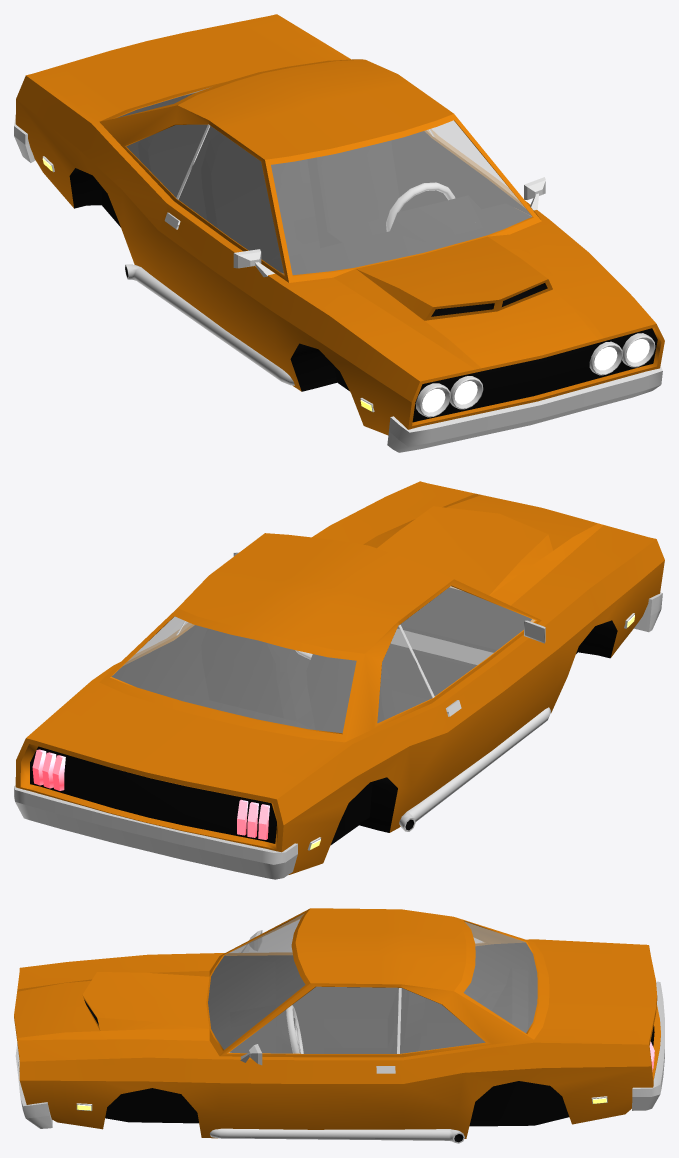
The model's file is muscle-car.glb.
3 views of the same model, one above another, from view 1: azimuth 30°, elevation 25°; view 2: azimuth 150°, elevation 25°; view 3: azimuth 270°, elevation 25° (orthographic). The views are drawn at different scales.
Visible parts, largest first — view 1: Cube; view 2: Cube; view 3: Cube.
Boxes of the visible parts, <box> form: Cube: <box>14,14,664,452</box>; Cube: <box>14,481,664,879</box>; Cube: <box>14,908,664,1143</box>.
Bounding box in the file's own units: 2.02 × 1.12 × 4.5.
